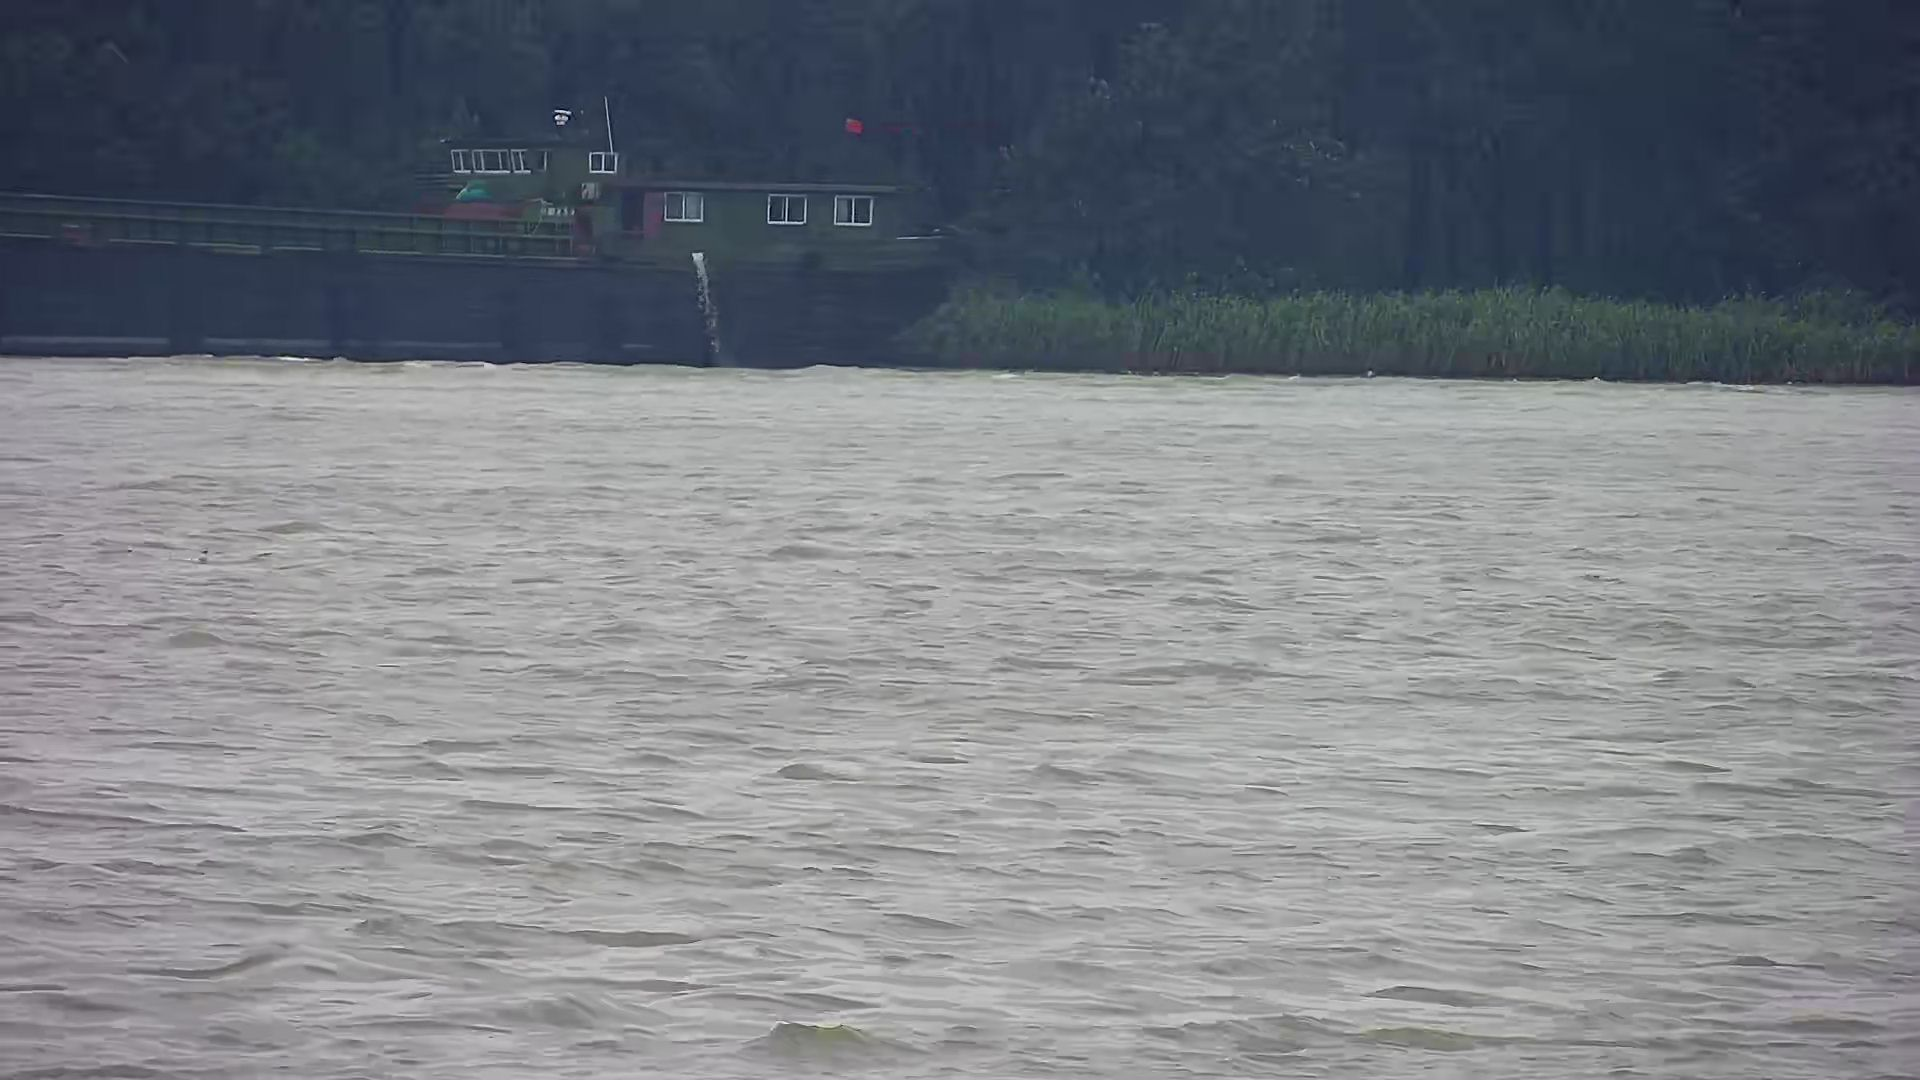ship: (1, 87, 972, 376)
